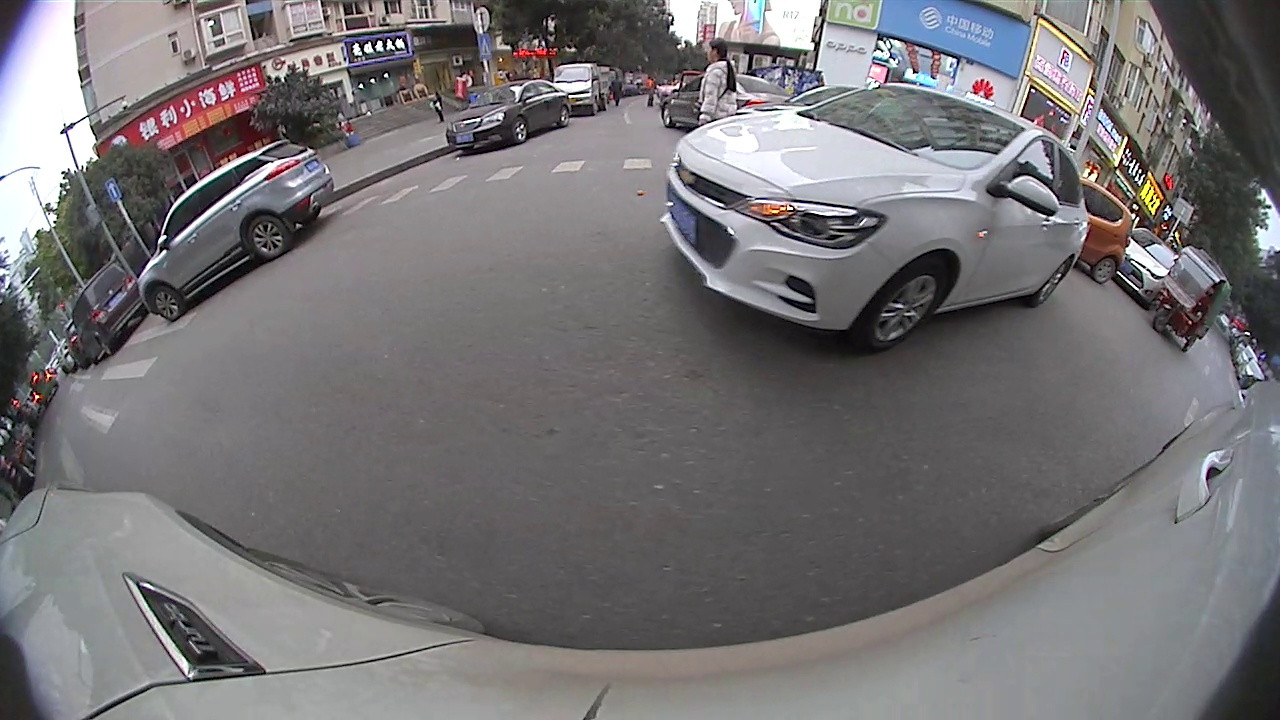car: (659, 79, 1094, 355), (134, 134, 339, 326), (446, 79, 571, 158), (68, 254, 150, 365), (657, 73, 793, 133), (1073, 174, 1137, 288), (1114, 224, 1184, 310)
front: (866, 264, 954, 356), (146, 290, 186, 320), (506, 118, 535, 145)
person: (704, 32, 733, 127)
rear: (243, 215, 295, 260), (1036, 250, 1076, 303), (1095, 256, 1119, 284), (554, 107, 578, 128)
rider: (1150, 245, 1229, 356)
